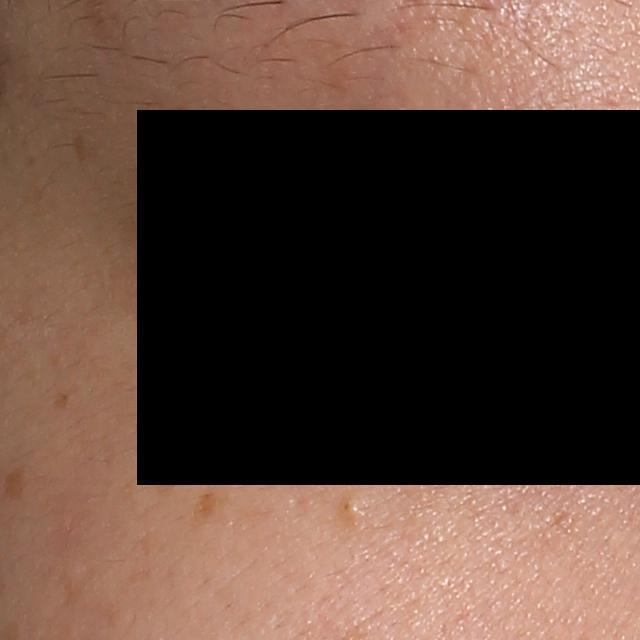comedo: (337, 495, 365, 522)
melasma: (188, 491, 219, 528), (1, 462, 27, 502), (53, 388, 72, 410)
